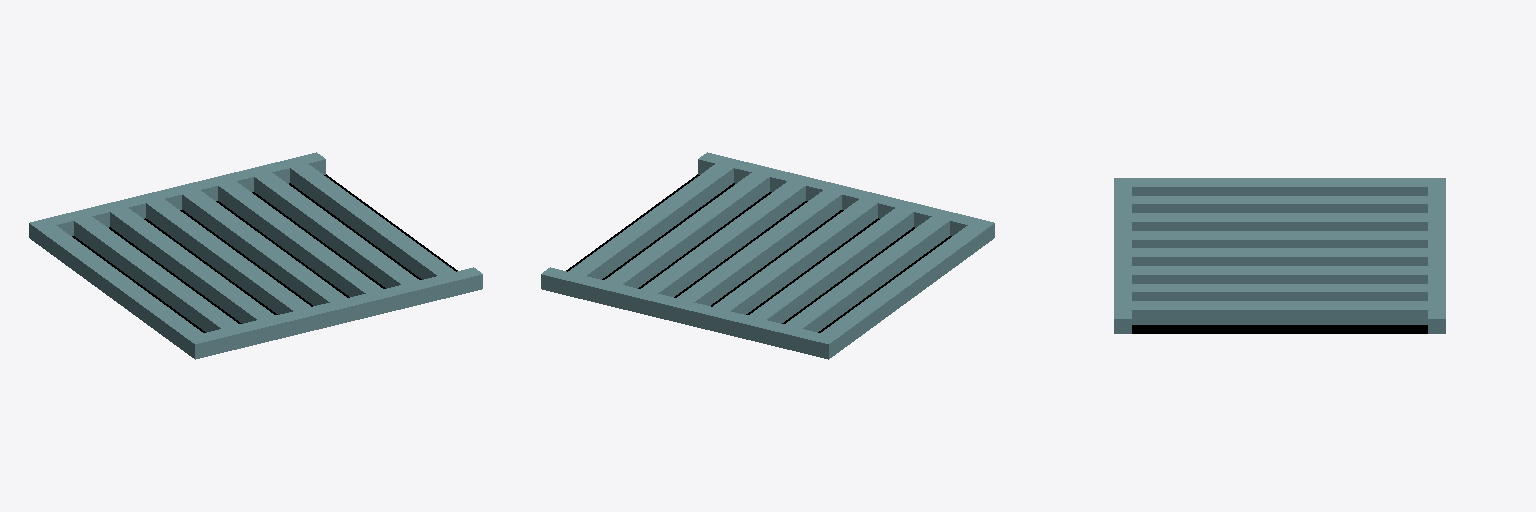
File: Abfluss2.obj
3 views of the same model, side by side, from view 1: azimuth 30°, elevation 25°; view 2: azimuth 150°, elevation 25°; view 3: azimuth 270°, elevation 25° (orthographic).
Parts seen in each view (by area): view 1: Plane; view 2: Plane; view 3: Plane.
Part boxes in pixels (bbox=[...]): Plane: bbox=[29, 152, 482, 359]; Plane: bbox=[541, 152, 994, 359]; Plane: bbox=[1114, 178, 1445, 333].
Size of the model in its own units: 2 by 0.1 by 2.